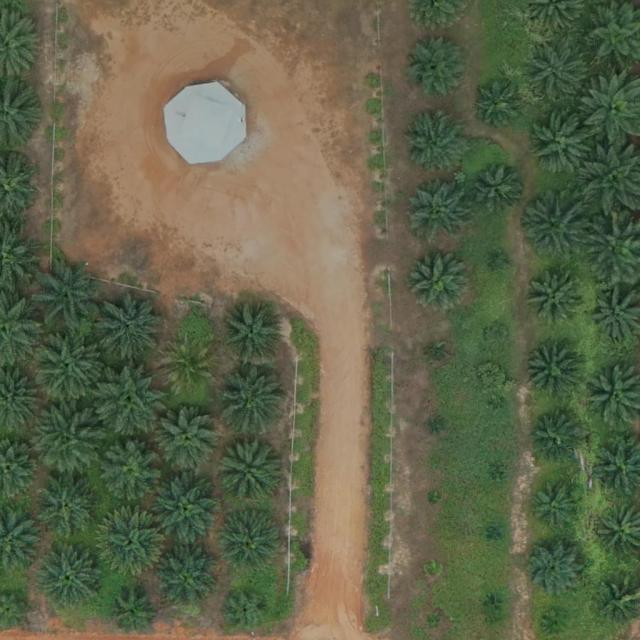Healthy: (97, 293, 168, 364), (96, 366, 167, 437), (520, 191, 590, 262), (520, 534, 590, 605), (34, 263, 104, 334), (34, 329, 104, 400), (97, 512, 167, 582), (219, 365, 289, 435), (152, 474, 222, 544), (32, 407, 102, 477), (220, 303, 283, 366), (39, 546, 102, 609), (403, 111, 465, 174), (530, 44, 592, 107), (408, 181, 470, 244), (407, 248, 469, 311), (217, 440, 280, 502), (220, 511, 283, 573), (159, 410, 221, 473), (156, 548, 218, 611), (37, 479, 99, 542), (406, 37, 468, 99), (531, 115, 593, 177), (100, 442, 162, 504), (525, 345, 580, 400), (529, 411, 584, 466), (530, 269, 584, 324), (471, 162, 525, 217), (476, 82, 523, 129), (111, 591, 158, 638)
Small: (531, 479, 586, 534), (224, 587, 271, 635), (487, 326, 511, 350), (545, 610, 569, 634), (427, 492, 443, 508), (489, 526, 505, 542), (495, 254, 510, 270), (492, 398, 508, 413), (489, 470, 504, 486), (425, 562, 440, 578), (430, 348, 445, 363), (430, 419, 445, 434), (427, 615, 442, 630), (485, 595, 500, 610)
Yellow: (162, 342, 217, 397)
